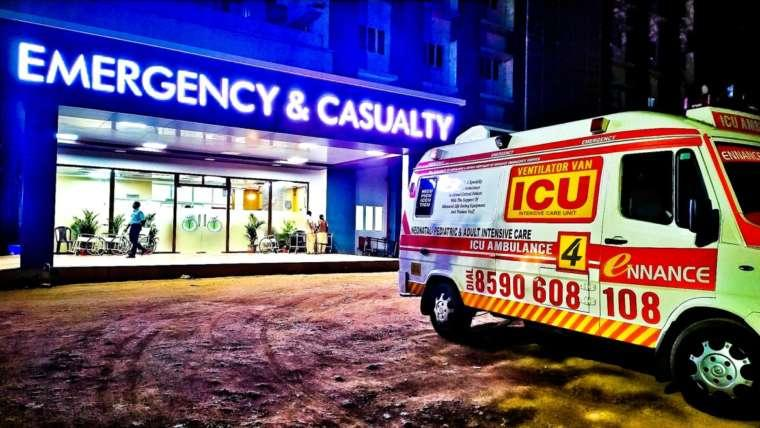ER: (398, 107, 760, 414)
